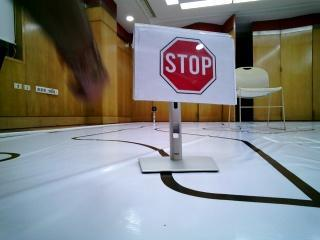stop: (152, 29, 226, 100)
